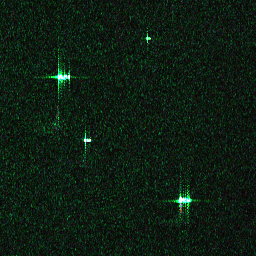ship: (174, 196, 193, 204), (54, 73, 72, 81), (81, 136, 92, 143), (144, 35, 151, 41)
